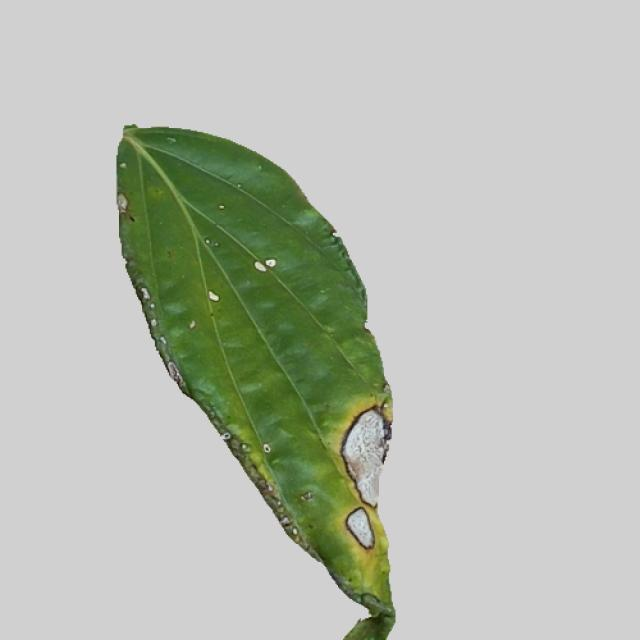leaf-blight: (97, 129, 411, 635)
